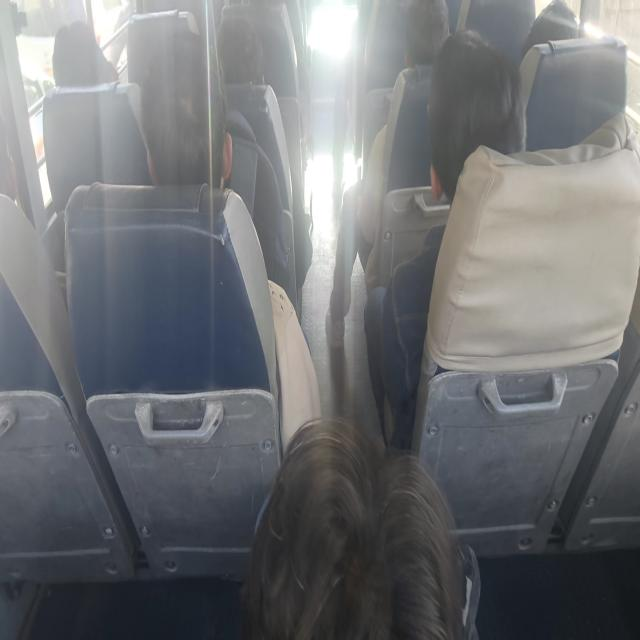person: (248, 402, 484, 632), (139, 68, 249, 228), (426, 36, 508, 222), (0, 46, 38, 253), (198, 18, 272, 86), (44, 38, 114, 106), (392, 0, 448, 81), (526, 5, 602, 57)
